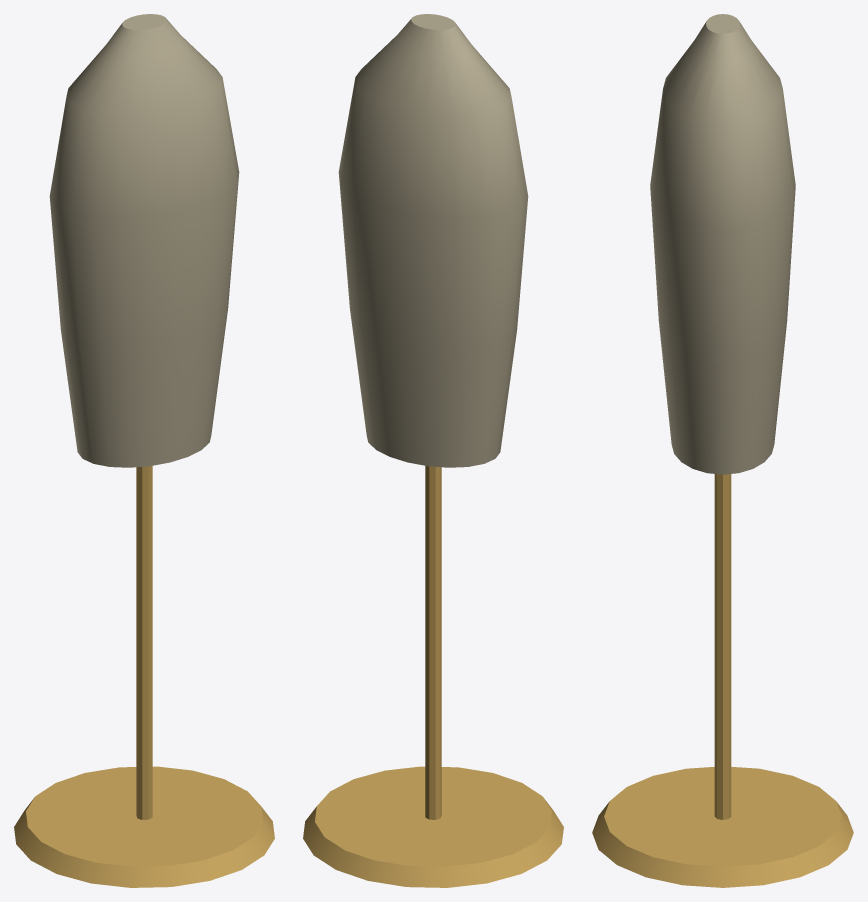
The model's file is mall-mannequin.glb.
3 renders of one model, left to right at view 1: azimuth 30°, elevation 25°; view 2: azimuth 150°, elevation 25°; view 3: azimuth 270°, elevation 25°, orthographic.
Visible parts, largest first — view 1: torso__plaster, stand__brass; view 2: torso__plaster, stand__brass; view 3: torso__plaster, stand__brass.
Part boxes in pixels (<box>): torso__plaster: <box>49,14,239,467</box>; stand__brass: <box>14,466,274,887</box>; torso__plaster: <box>338,14,528,467</box>; stand__brass: <box>303,466,563,887</box>; torso__plaster: <box>650,14,795,474</box>; stand__brass: <box>592,474,853,887</box>.
Size of the model in its own units: 0.44 by 1.5 by 0.44.
